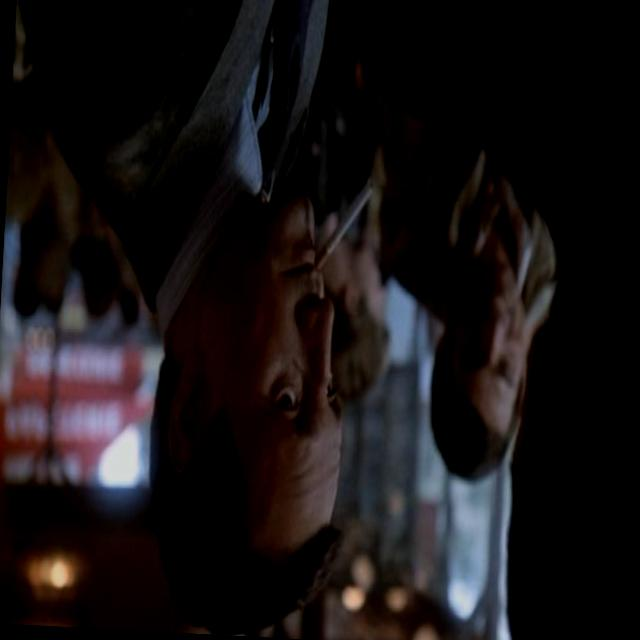cigarette: (307, 166, 385, 288)
